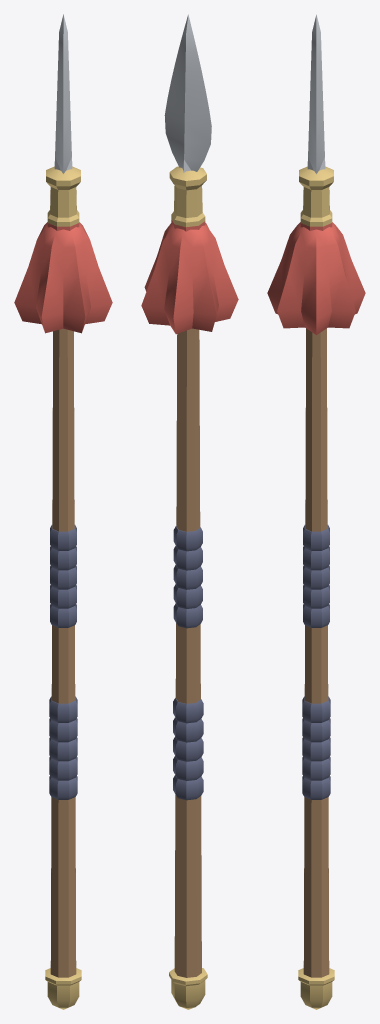
Rendered from Spear.fbx.
The picture shows the model from 3 angles, left to right: view 1: azimuth 90°, elevation 25°; view 2: azimuth 150°, elevation 25°; view 3: azimuth 270°, elevation 25°; orthographic projection.
Parts seen in each view (by area): view 1: SpearShaft, SpearTassel, SpearWrap, SpearFittings, SpearBlade; view 2: SpearShaft, SpearTassel, SpearWrap, SpearBlade, SpearFittings; view 3: SpearShaft, SpearTassel, SpearWrap, SpearFittings, SpearBlade.
Part boxes in pixels (x1,y1,x2,y2): SpearShaft: (50, 328, 76, 977); SpearTassel: (14, 222, 112, 333); SpearWrap: (49, 525, 77, 799); SpearFittings: (45, 166, 81, 1009); SpearBlade: (54, 14, 72, 173); SpearShaft: (174, 328, 201, 977); SpearTassel: (141, 219, 238, 334); SpearWrap: (173, 526, 203, 800); SpearBlade: (164, 14, 211, 172); SpearFittings: (169, 166, 207, 1009); SpearShaft: (303, 328, 329, 977); SpearTassel: (267, 222, 365, 334); SpearWrap: (302, 525, 330, 799); SpearFittings: (298, 166, 334, 1009); SpearBlade: (307, 14, 325, 173).
Bounding box in the file's own units: 0.7594 × 8.7 × 0.779.
